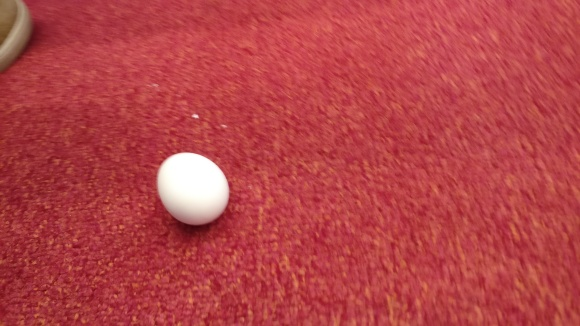egg: (156, 151, 231, 227)
